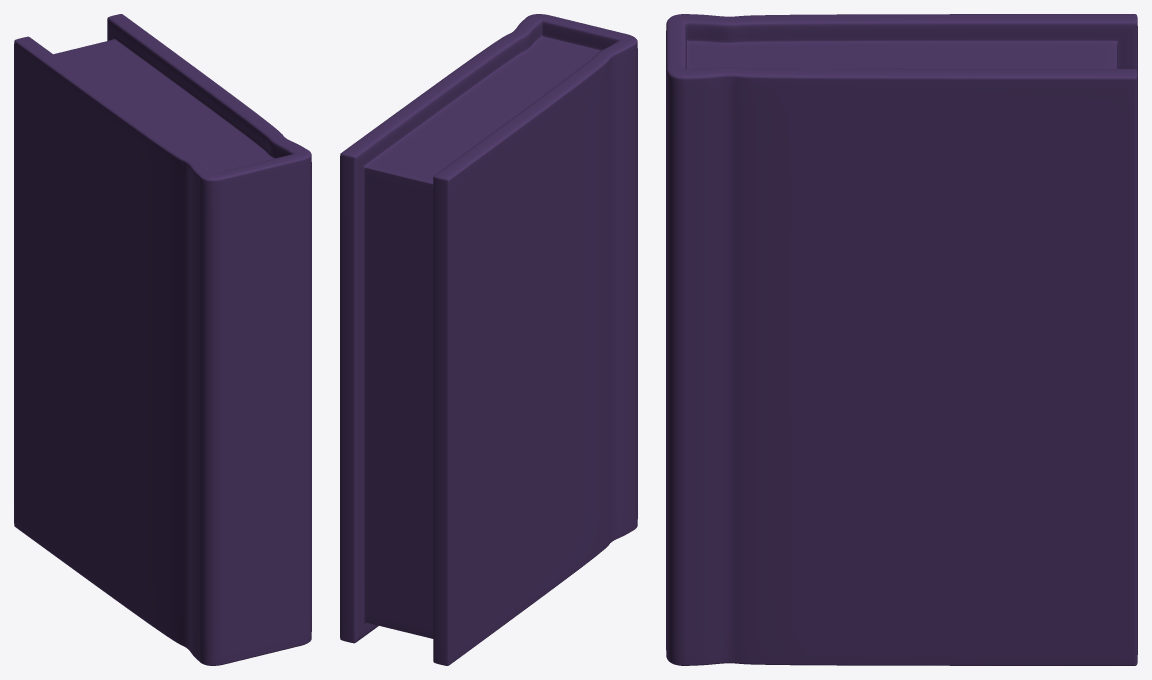
Rendered from bookPurple.fbx.
3 views of the same model, side by side, from view 1: azimuth 30°, elevation 25°; view 2: azimuth 150°, elevation 25°; view 3: azimuth 270°, elevation 25° (orthographic). The views are drawn at different scales.
Parts seen in each view (by area): view 1: purple; view 2: purple; view 3: purple.
Boxes of the visible parts, left/top/right/bottom form: purple: left=14, top=14, right=311, bottom=665; purple: left=340, top=14, right=637, bottom=665; purple: left=666, top=14, right=1137, bottom=665.
Bounding box in the file's own units: 7.22 × 30.78 × 22.29.
